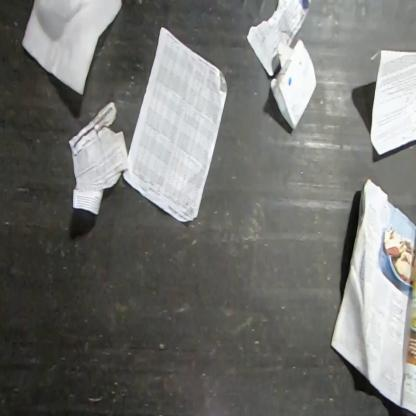cardboard: (270, 36, 318, 130)
